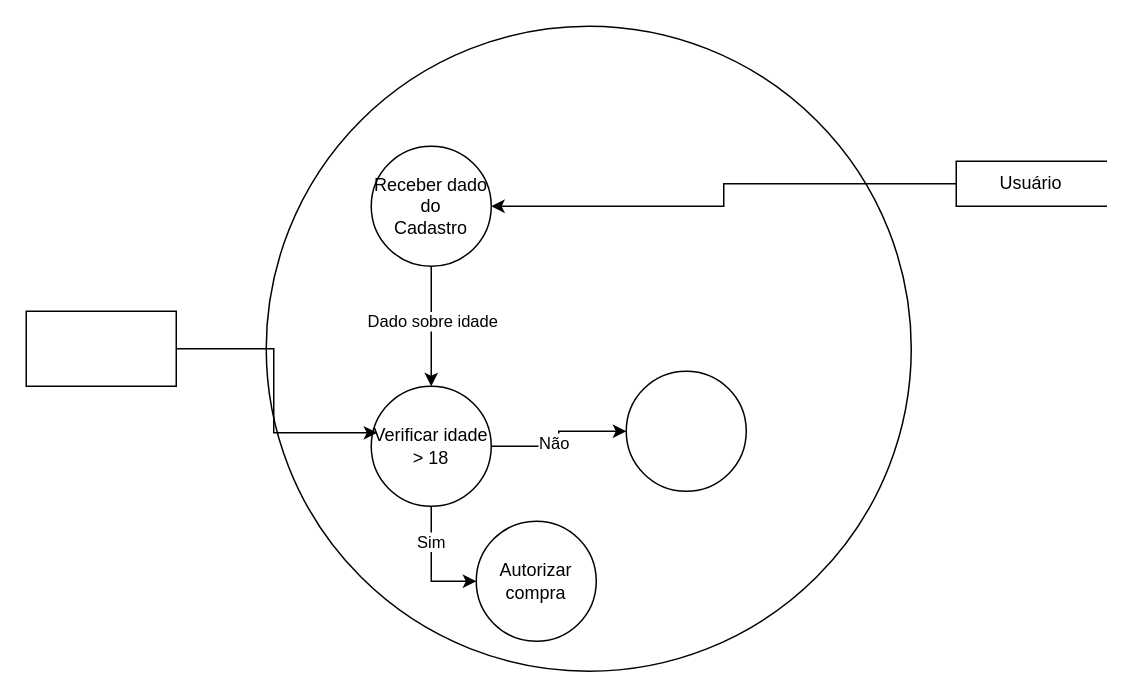
This 1133x698 diagram has some shape labels left out. The shapes that lost their labels are listed below. From the top down, each one's box as (x1, y1, x2, y2) in pixels, then its label:
(25, 310, 176, 386): Sistema
(625, 370, 746, 491): Recusar Compra
